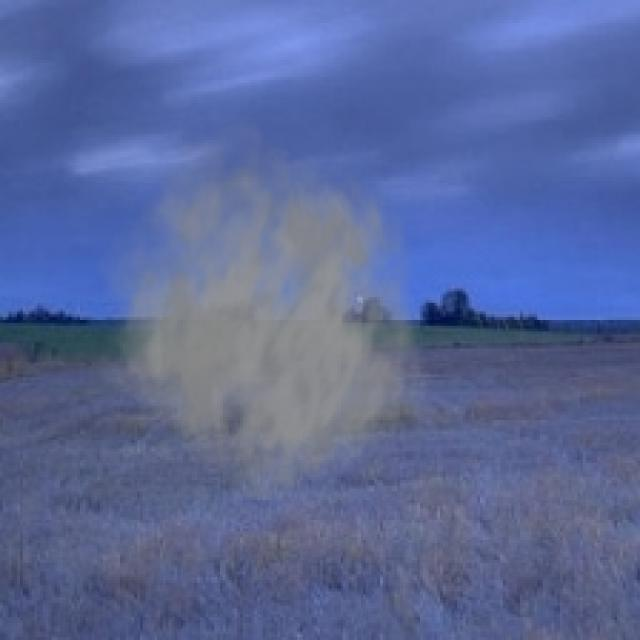Smoke: (89, 117, 432, 503)
